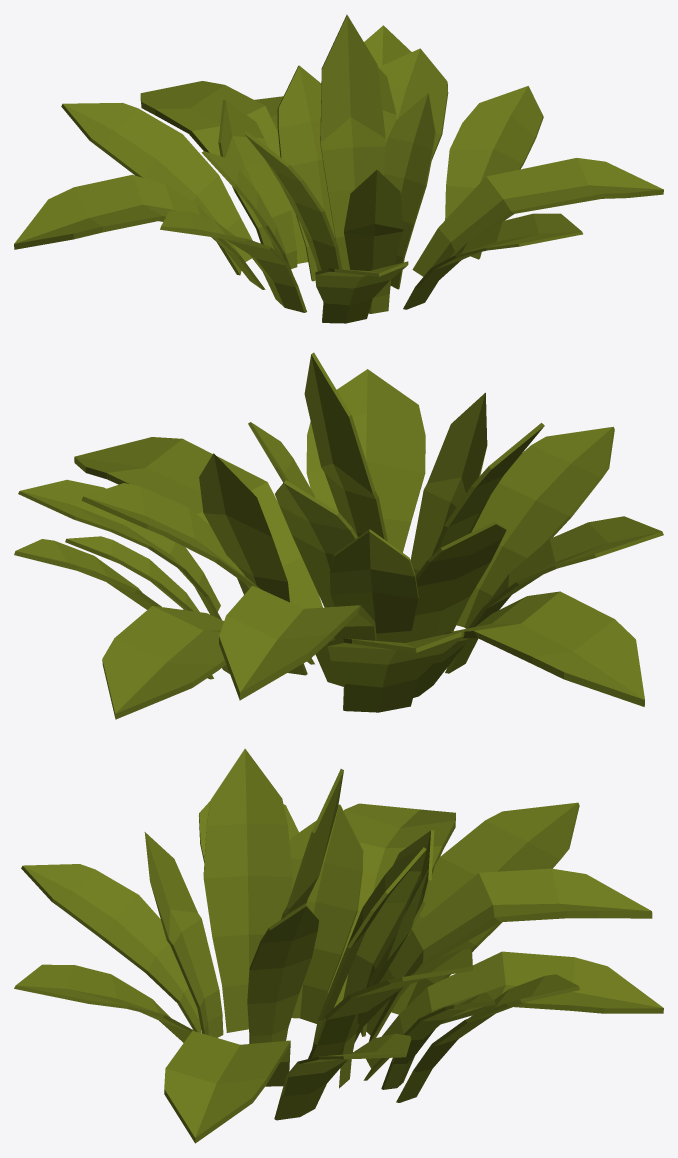
The model's file is Plant_1.fbx.
3 renders of one model, top to bottom at view 1: azimuth 30°, elevation 25°; view 2: azimuth 150°, elevation 25°; view 3: azimuth 270°, elevation 25°, orthographic. The views are drawn at different scales.
Visible parts, largest first — view 1: Plant_1; view 2: Plant_1; view 3: Plant_1.
Part boxes in pixels (x1,y1,x2,y2): Plant_1: (14,14,663,323); Plant_1: (14,352,663,719); Plant_1: (14,748,663,1143).
Size of the model in its own units: 0.8274 by 0.3558 by 0.7182.
